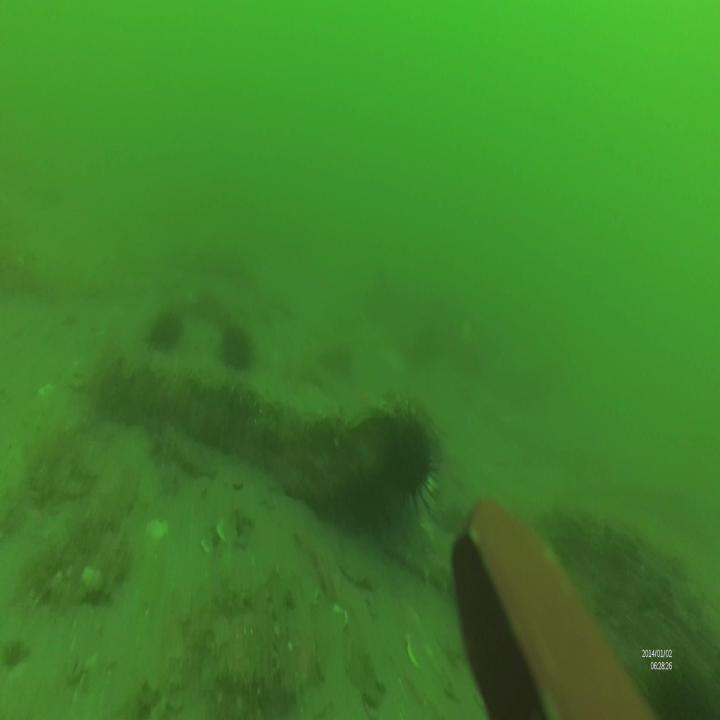echinus: (383, 394, 441, 516), (218, 319, 256, 375), (146, 305, 184, 355)
